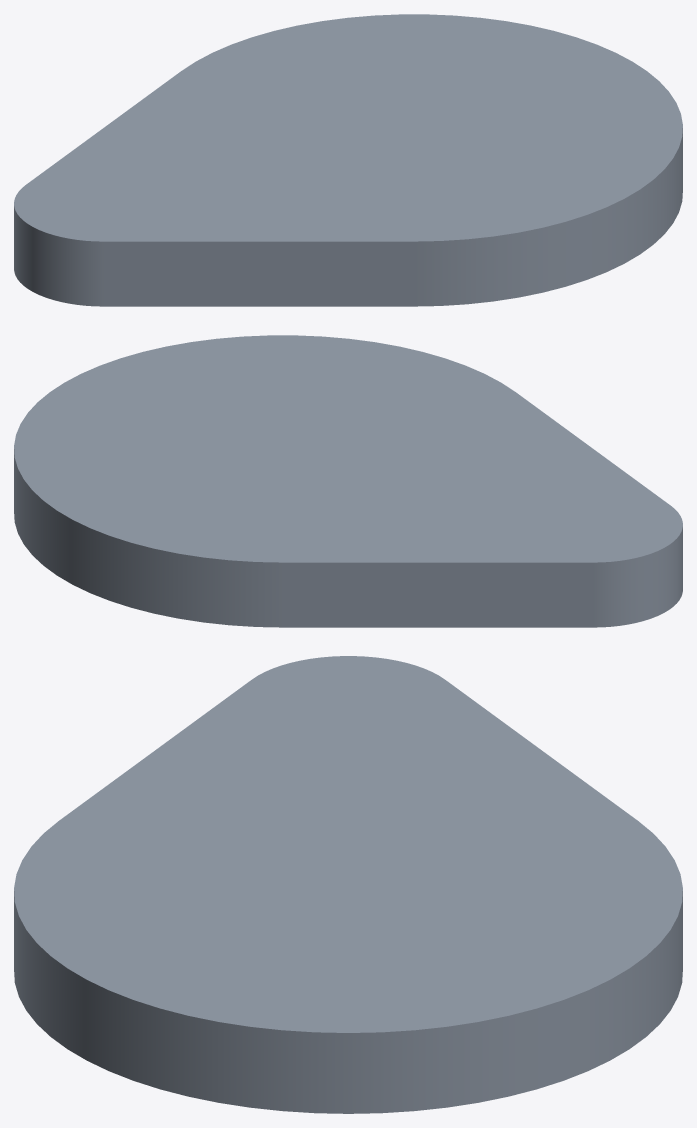
The model's file is step_02.glb.
3 views of the same model, one above another, from view 1: azimuth 30°, elevation 25°; view 2: azimuth 150°, elevation 25°; view 3: azimuth 270°, elevation 25° (orthographic). The views are drawn at different scales.
Parts seen in each view (by area): view 1: part__slotted boss flange; view 2: part__slotted boss flange; view 3: part__slotted boss flange.
Boxes of the visible parts, x1,y1,x2,y2 form: part__slotted boss flange: [14, 14, 682, 306]; part__slotted boss flange: [14, 335, 682, 627]; part__slotted boss flange: [14, 656, 682, 1113].
Size of the model in its own units: 79.99 by 8 by 59.98.
